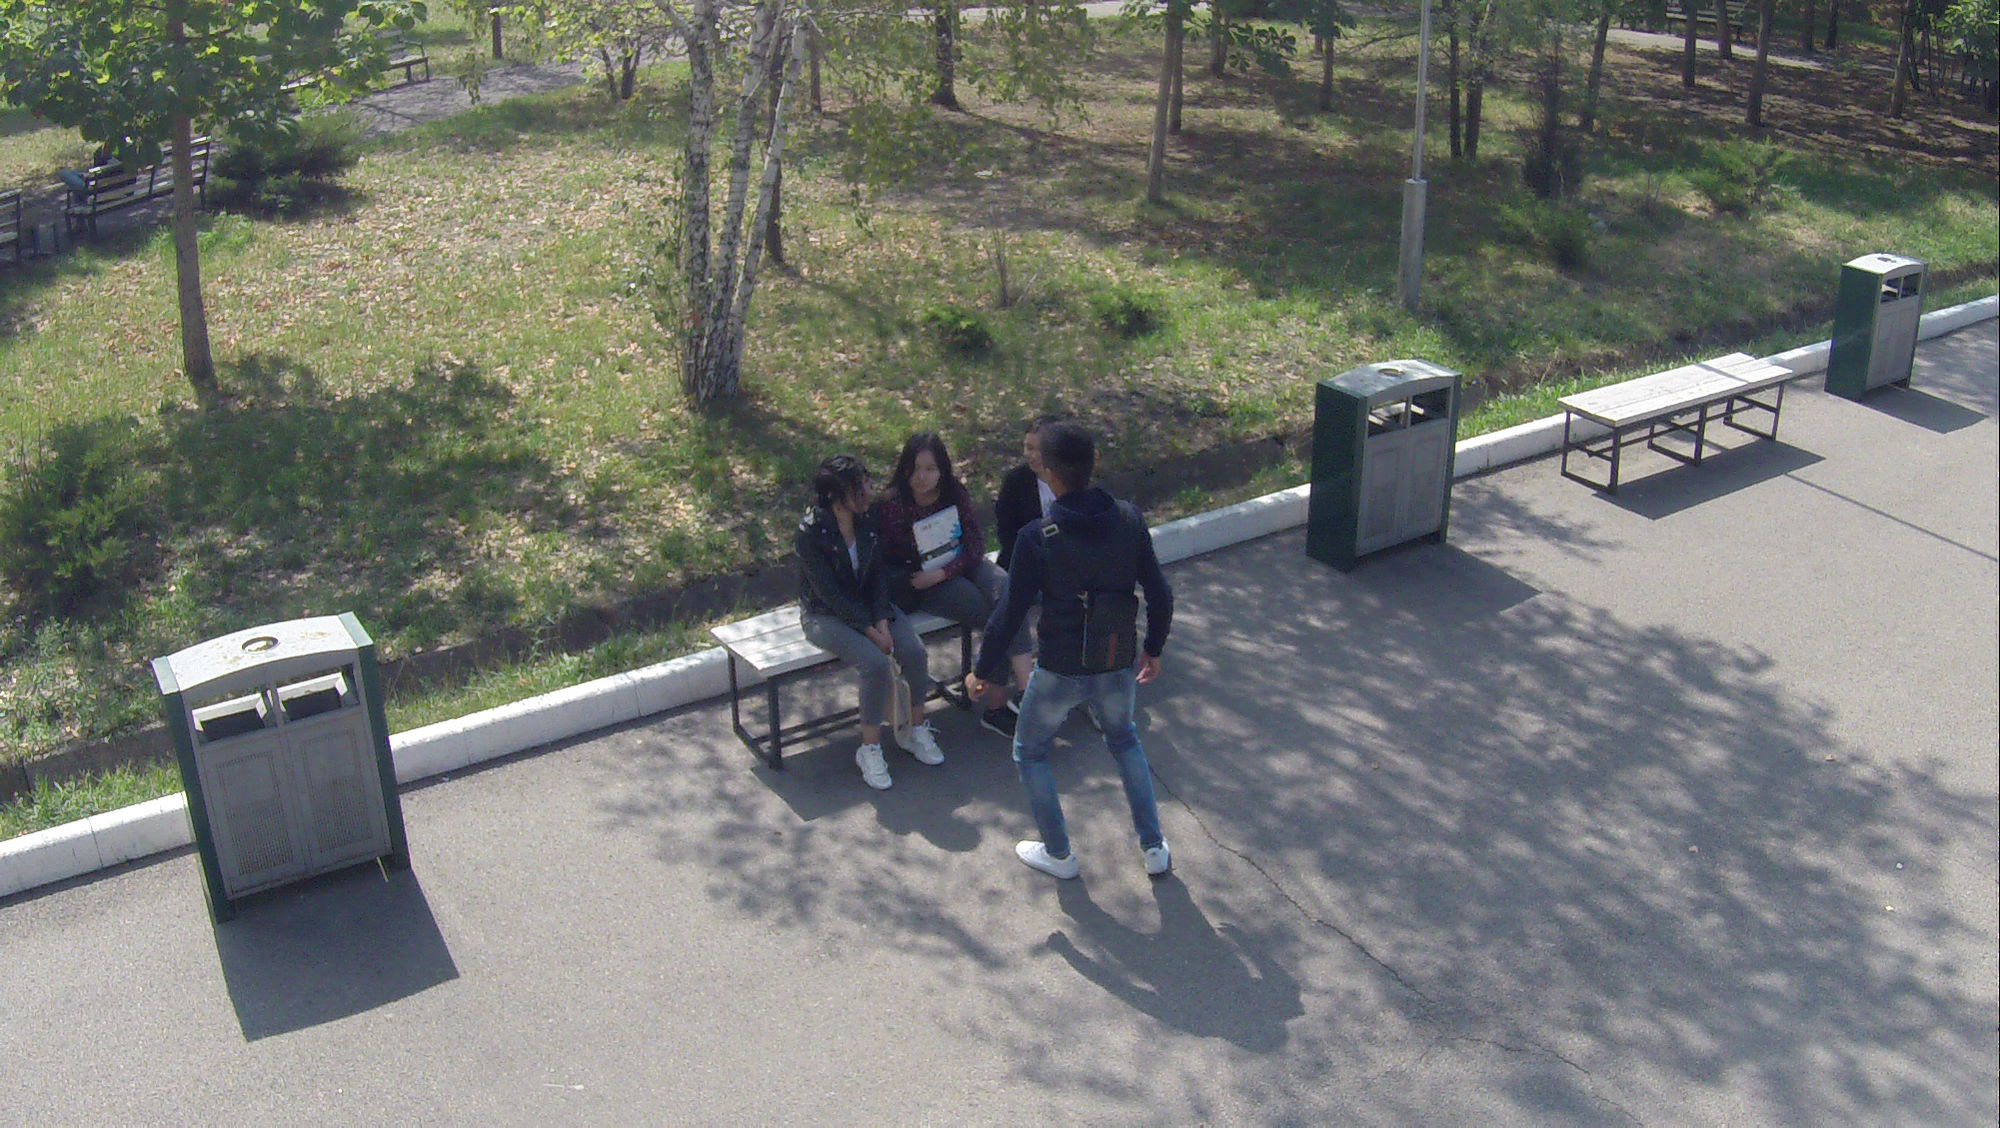person: (968, 414, 1193, 897), (891, 430, 1051, 768), (793, 455, 949, 793)
